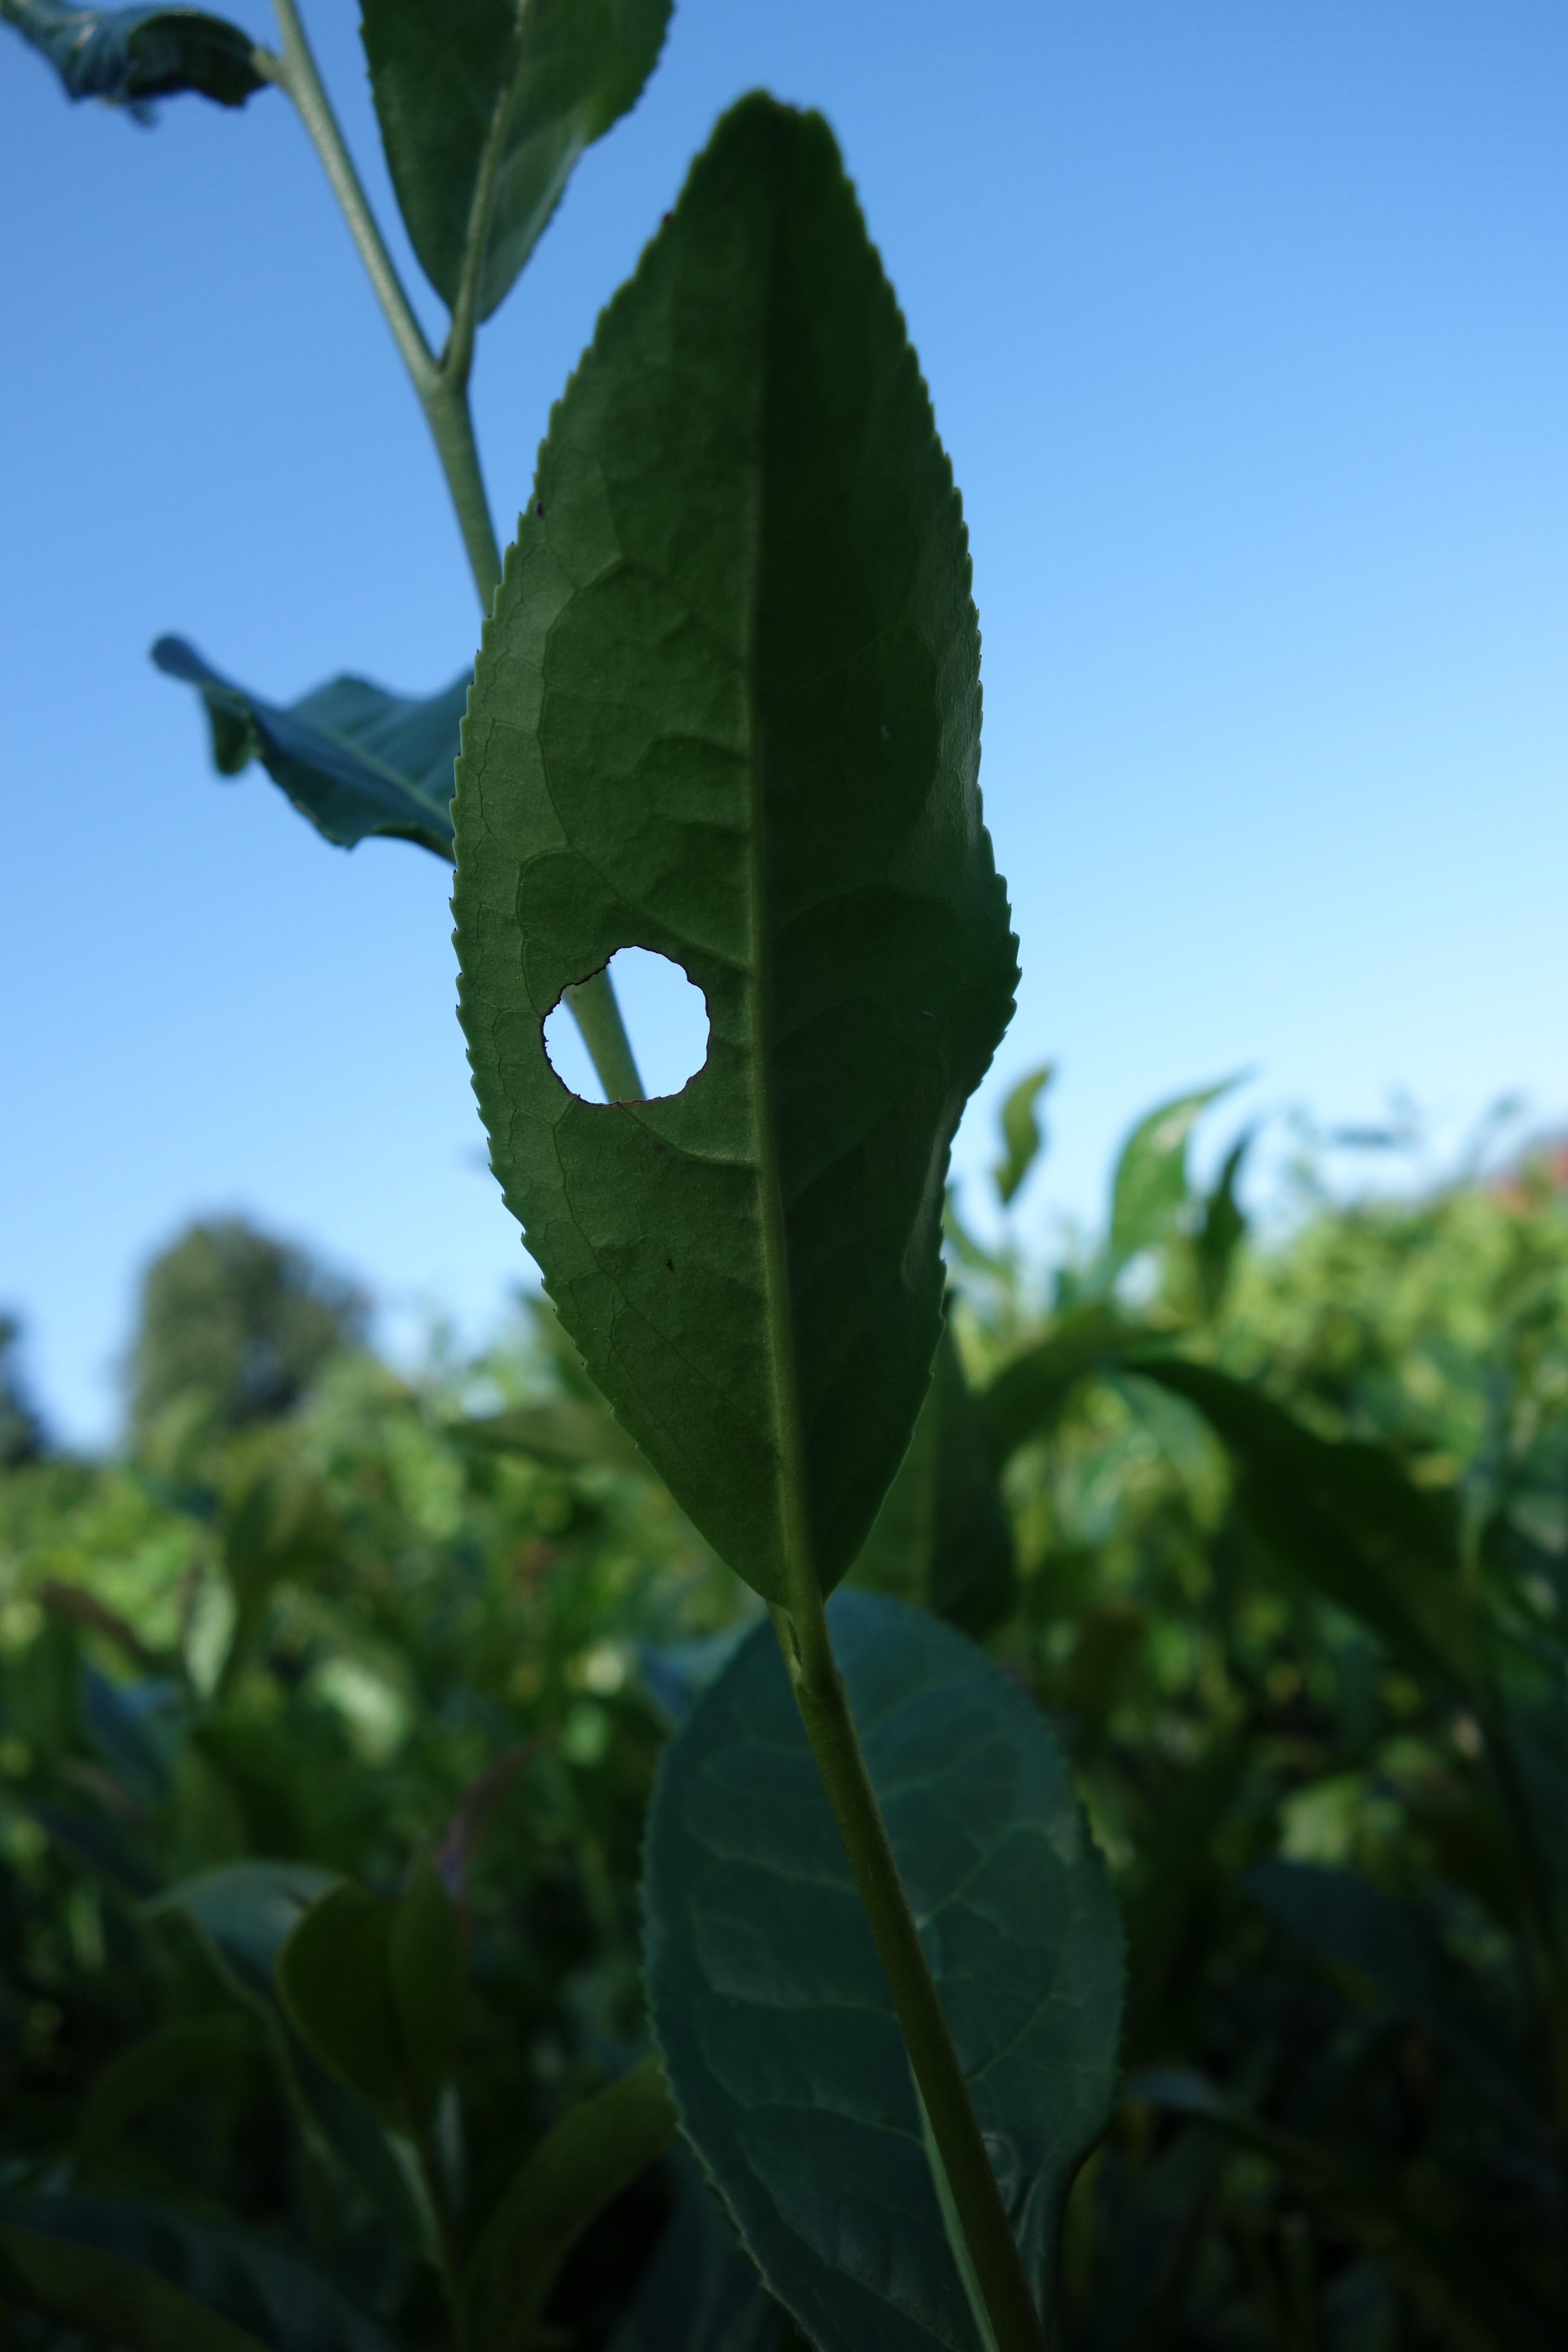chihuo_low: (453, 86, 1024, 1629)
healthy: (632, 1591, 1130, 2341)
